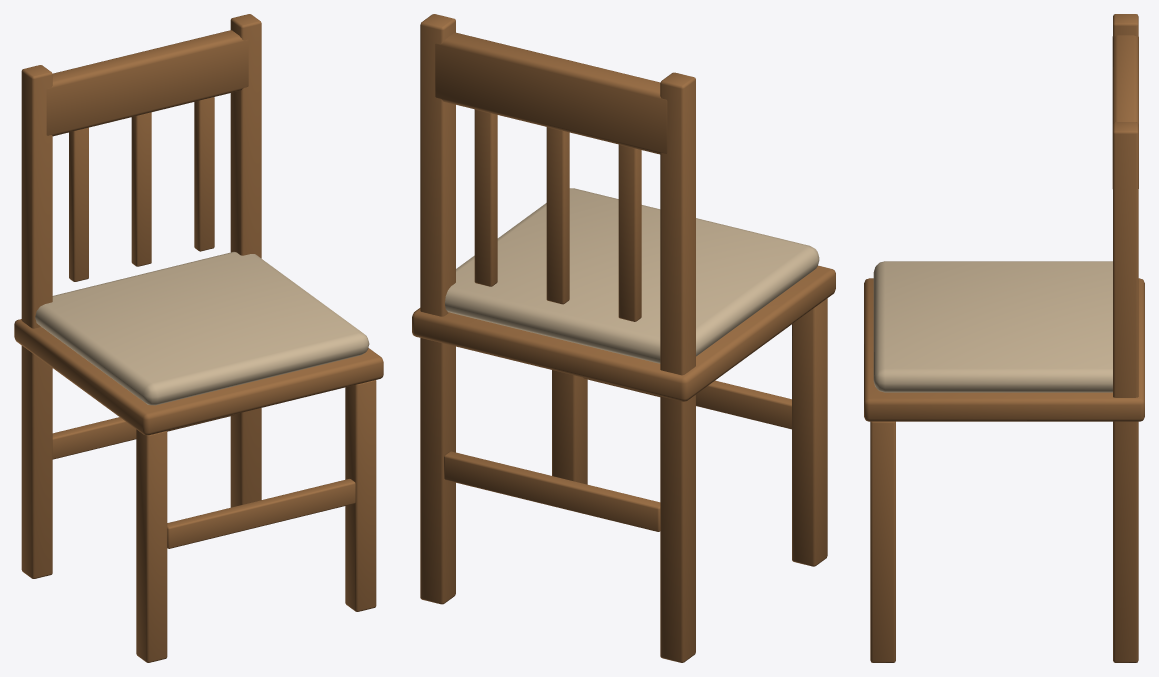
File: Chair_Dining.fbx
The picture shows the model from 3 angles, left to right: view 1: azimuth 30°, elevation 25°; view 2: azimuth 150°, elevation 25°; view 3: azimuth 270°, elevation 25°; orthographic projection. The views are drawn at different scales.
Parts seen in each view (by area): view 1: Chair_Dining; view 2: Chair_Dining; view 3: Chair_Dining.
Part boxes in pixels (x1,y1,x2,y2): Chair_Dining: (14,14,383,662); Chair_Dining: (412,14,835,662); Chair_Dining: (864,14,1144,662).
Bounding box in the file's own units: 0.46 × 0.44 × 0.92.
